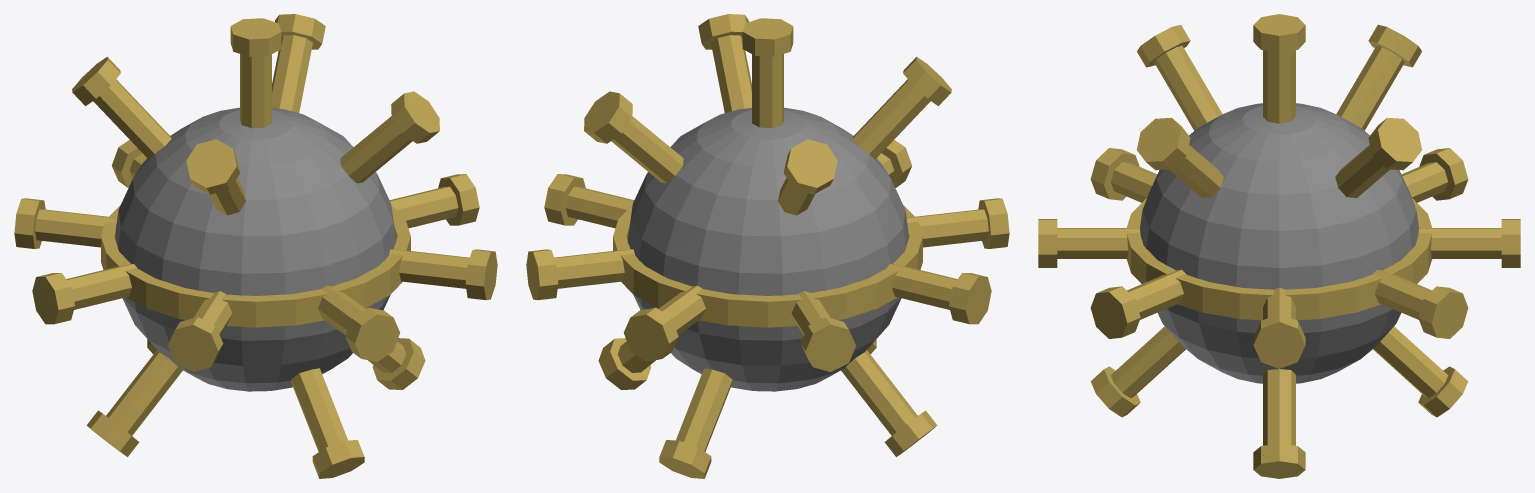
File: vge_gravmine.obj
The picture shows the model from 3 angles, left to right: view 1: azimuth 30°, elevation 25°; view 2: azimuth 150°, elevation 25°; view 3: azimuth 270°, elevation 25°; orthographic projection.
Parts seen in each view (by area): view 1: vge_gravmine_0, vge_gravmine_1, vge_gravmine_32, vge_gravmine_22, vge_gravmine_34, vge_gravmine_20, vge_gravmine_26, vge_gravmine_2, vge_gravmine_18, vge_gravmine_25, vge_gravmine_10, vge_gravmine_15 (+19 smaller); view 2: vge_gravmine_0, vge_gravmine_1, vge_gravmine_32, vge_gravmine_24, vge_gravmine_30, vge_gravmine_26, vge_gravmine_20, vge_gravmine_2, vge_gravmine_6, vge_gravmine_23, vge_gravmine_14, vge_gravmine_11 (+19 smaller); view 3: vge_gravmine_0, vge_gravmine_1, vge_gravmine_22, vge_gravmine_24, vge_gravmine_28, vge_gravmine_30, vge_gravmine_34, vge_gravmine_2, vge_gravmine_8, vge_gravmine_16, vge_gravmine_5, vge_gravmine_21 (+20 smaller).
Boxes of the visible parts, box(x1,y1,x2,y2) form: vge_gravmine_0: box(115, 107, 396, 391); vge_gravmine_1: box(101, 205, 410, 327); vge_gravmine_32: box(106, 350, 182, 435); vge_gravmine_22: box(93, 79, 171, 159); vge_gravmine_34: box(291, 368, 347, 451); vge_gravmine_20: box(272, 35, 312, 112); vge_gravmine_26: box(340, 116, 412, 183); vge_gravmine_2: box(240, 54, 271, 128); vge_gravmine_18: box(388, 249, 469, 288); vge_gravmine_25: box(186, 139, 239, 194); vge_gravmine_10: box(35, 209, 117, 247); vge_gravmine_15: box(167, 317, 223, 371); vge_gravmine_0: box(627, 107, 908, 391); vge_gravmine_1: box(613, 205, 922, 327); vge_gravmine_32: box(841, 350, 917, 435); vge_gravmine_24: box(852, 79, 930, 159); vge_gravmine_30: box(676, 368, 732, 451); vge_gravmine_26: box(711, 35, 751, 112); vge_gravmine_20: box(611, 116, 683, 183); vge_gravmine_2: box(752, 54, 783, 128); vge_gravmine_6: box(554, 249, 635, 288); vge_gravmine_23: box(784, 139, 837, 194); vge_gravmine_14: box(906, 209, 988, 247); vge_gravmine_11: box(800, 317, 856, 371); vge_gravmine_0: box(1140, 103, 1418, 383); vge_gravmine_1: box(1126, 198, 1432, 320); vge_gravmine_22: box(1336, 45, 1404, 130); vge_gravmine_24: box(1154, 45, 1222, 130); vge_gravmine_28: box(1263, 369, 1295, 445); vge_gravmine_30: box(1373, 326, 1447, 398); vge_gravmine_34: box(1111, 326, 1185, 398); vge_gravmine_2: box(1263, 50, 1295, 123); vge_gravmine_8: box(1418, 228, 1501, 258); vge_gravmine_16: box(1057, 228, 1140, 258); vge_gravmine_5: box(1253, 314, 1305, 368); vge_gravmine_21: box(1368, 117, 1421, 170).
Bounding box in the file's own units: 1.02 × 0.9095 × 1.02.
